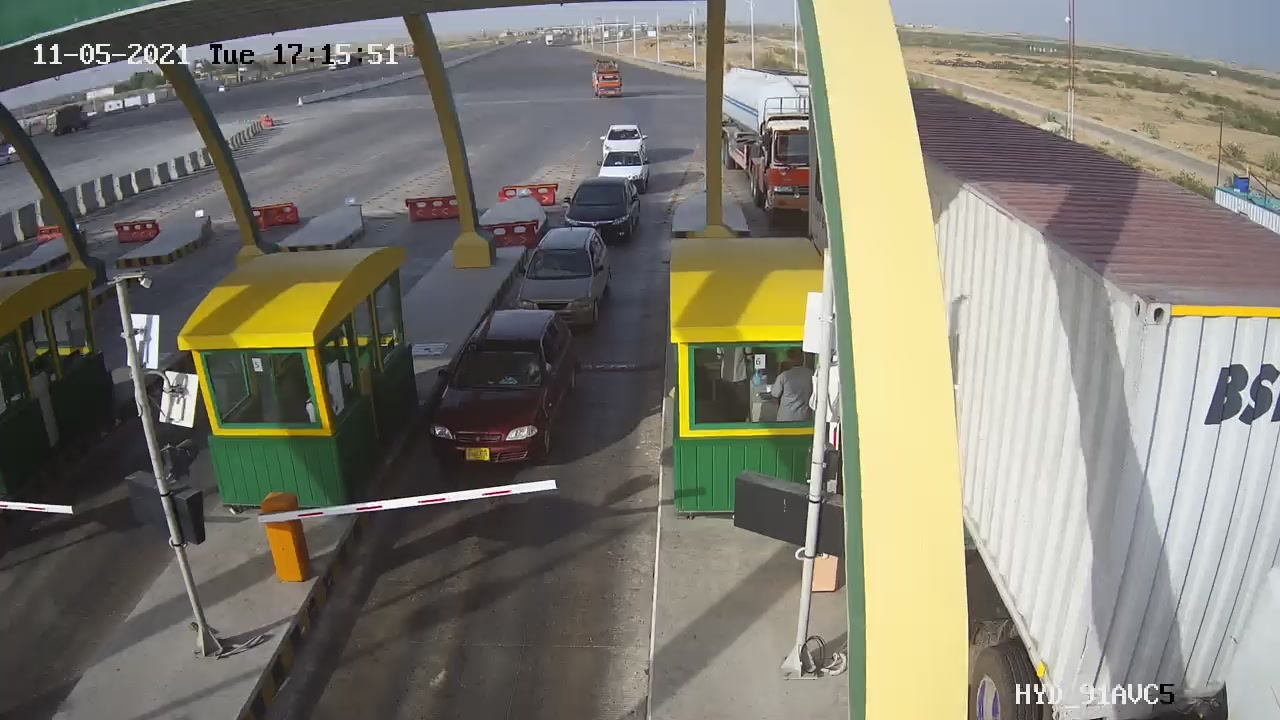F1: (418, 298, 591, 483), (503, 218, 624, 335)
